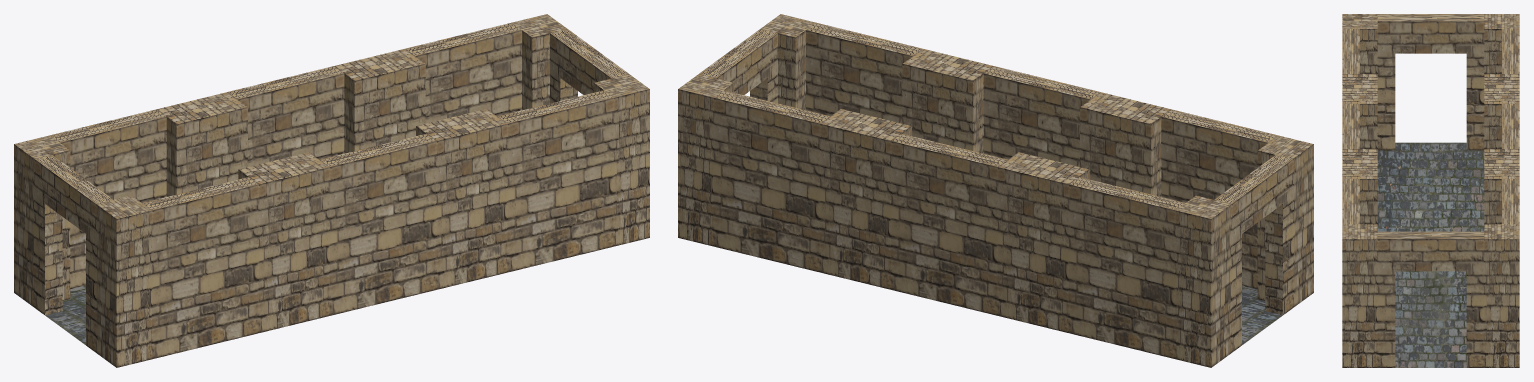
File: 1_threeBlockHallway.fbx
3 renders of one model, left to right at view 1: azimuth 30°, elevation 25°; view 2: azimuth 150°, elevation 25°; view 3: azimuth 270°, elevation 25°, orthographic. The views are drawn at different scales.
Visible parts, largest first — view 1: Cube_10, Plane; view 2: Cube_10, Plane; view 3: Cube_10, Plane.
Boxes of the visible parts, x1,y1,x2,y2 form: Cube_10: (14,14,649,367); Plane: (45,285,85,344); Cube_10: (678,14,1313,367); Plane: (1242,285,1282,344); Cube_10: (1342,14,1519,367); Plane: (1377,142,1484,367).
Size of the model in its own units: 30 by 8 by 10.
Materials: 2 (2 with a texture image).
